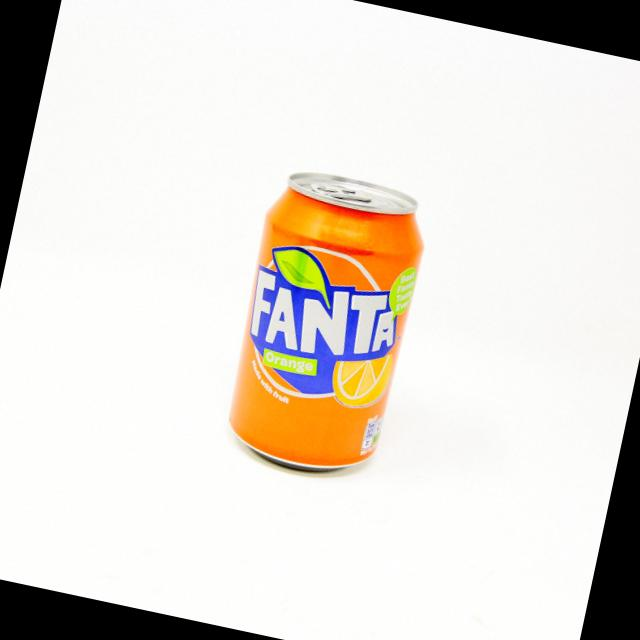fanta: (216, 166, 432, 488)
